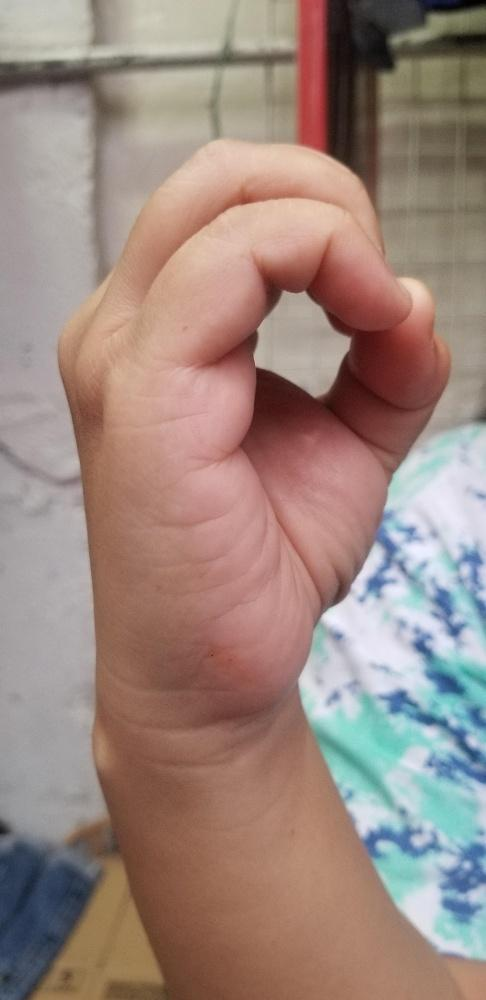o: (55, 135, 450, 698)
